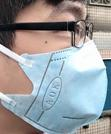with_mask: (2, 2, 111, 134)
